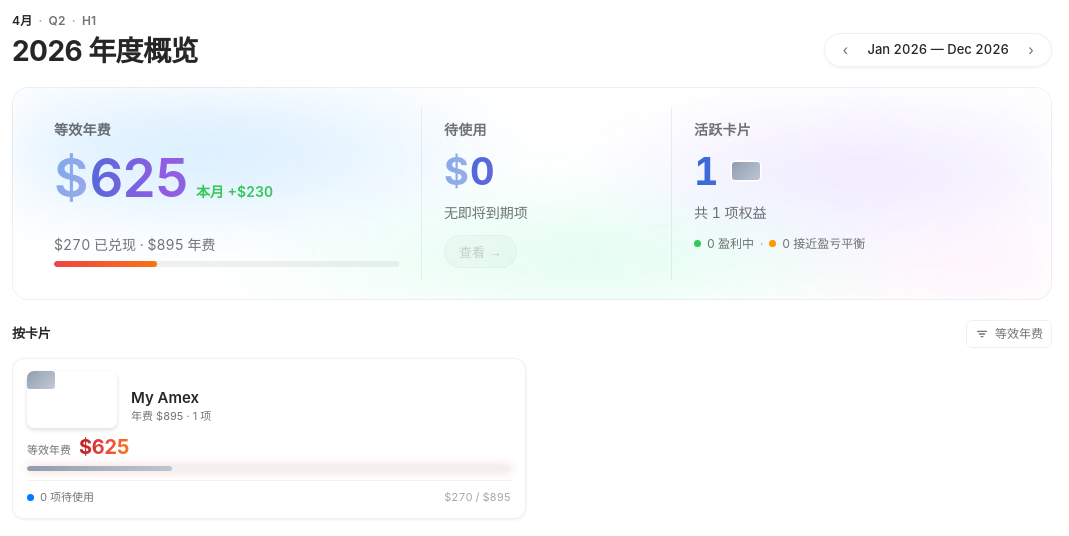
Dashboard › shows current-month usage only for current year
Expected: the text with test id "current-month-usage" reads "本月 +$230", x1=196 y1=181 x2=273 y2=202
Click the button named "Previous year". click: (845, 50)
box: x1=833 y1=38 x2=857 y2=62
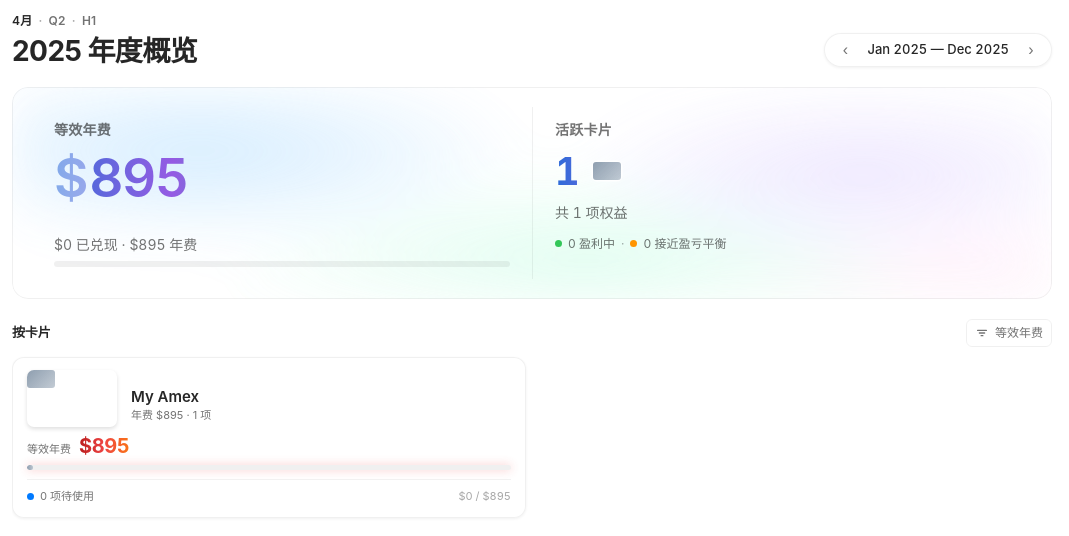
Expected: the text with test id "current-month-usage" is gone
